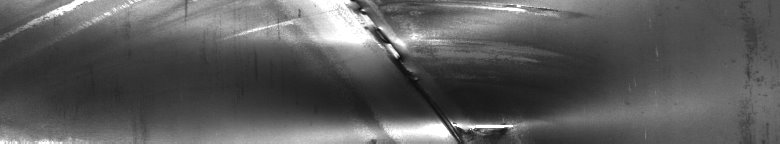ke: (235, 4, 583, 136)
